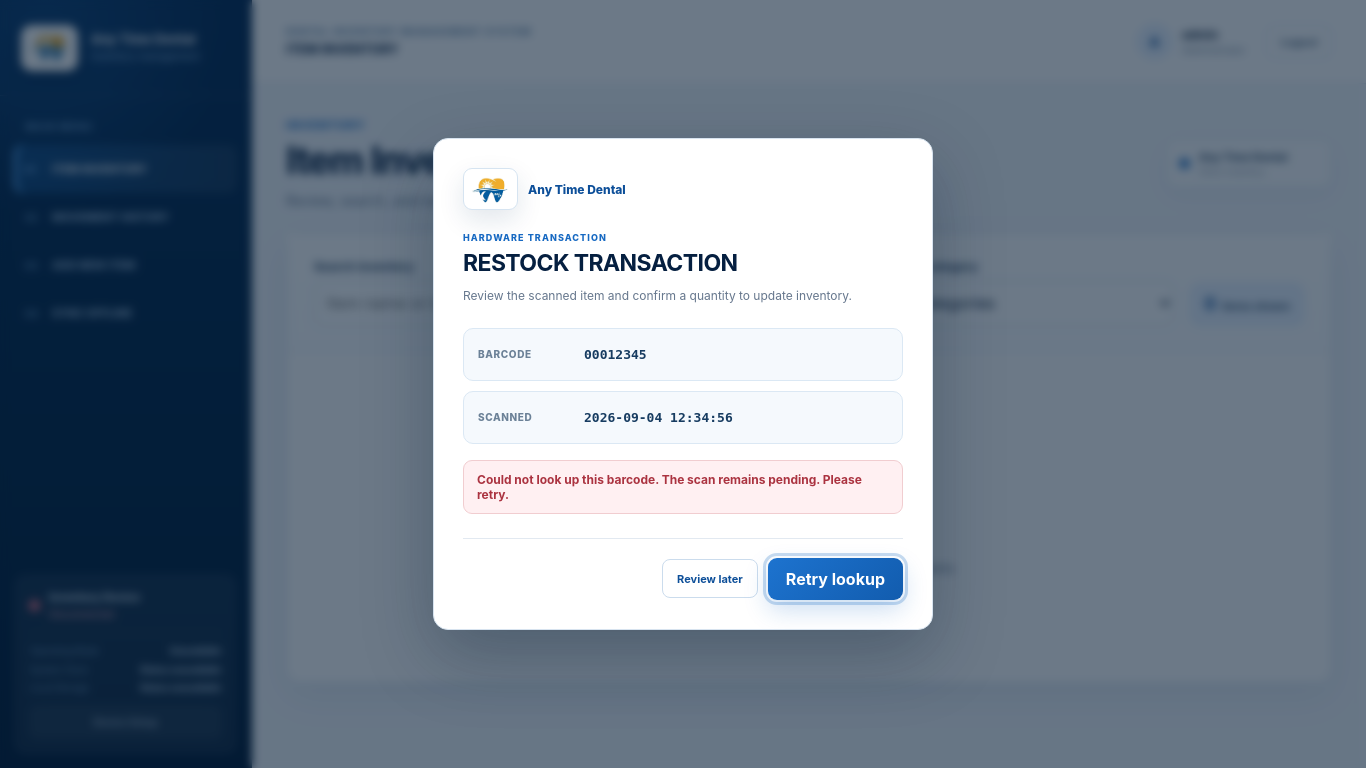
it: Phase 5 Step 2 hardware inventory transaction › does not classify rejected promise as an unknown barcode and supports retry
Expected: the message shows "Could not look up this barcode.", [477,472,862,502]
Expected: the button "Review later" is enabled, [662,559,758,598]
Click the button "Retry lookup": [835, 579] box [768,558,903,600]
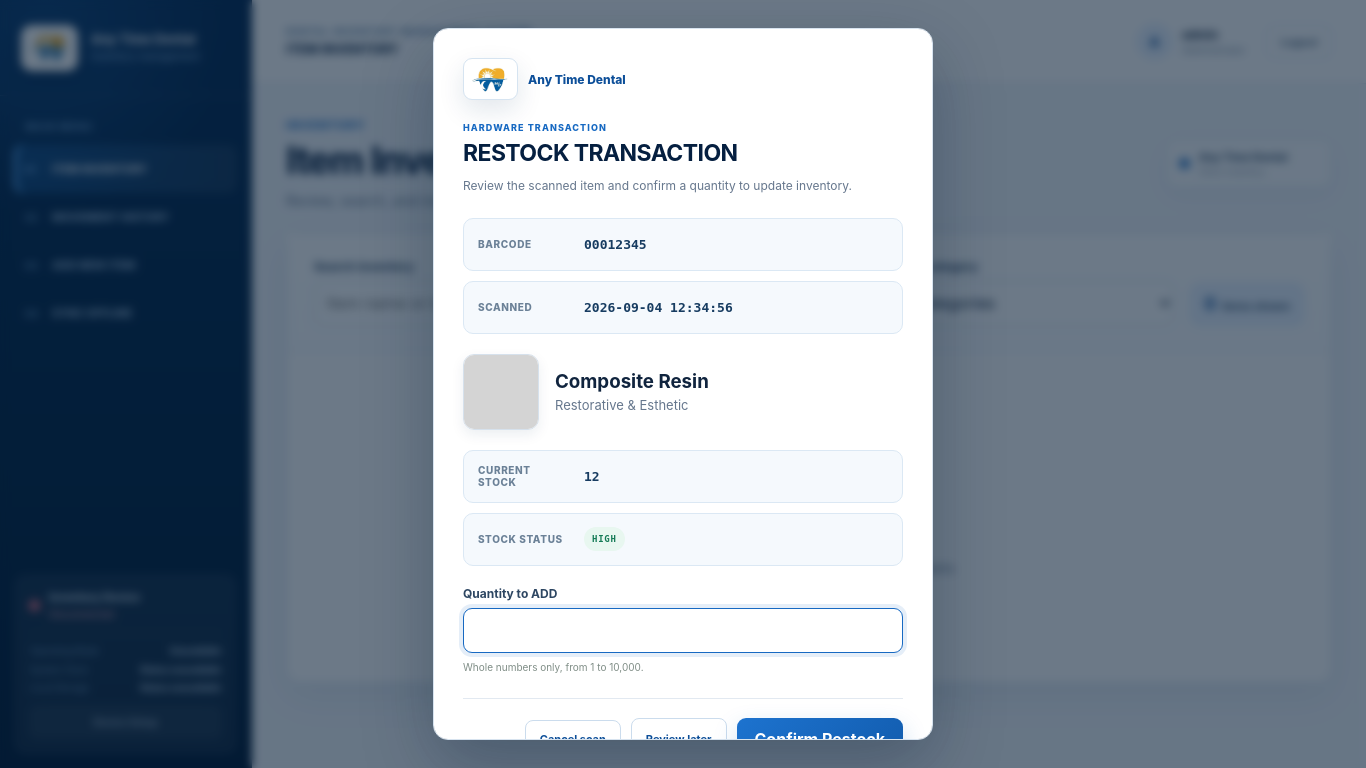
Now the field labelled "Quantity to ADD" is shown, box [463,608,903,653]
